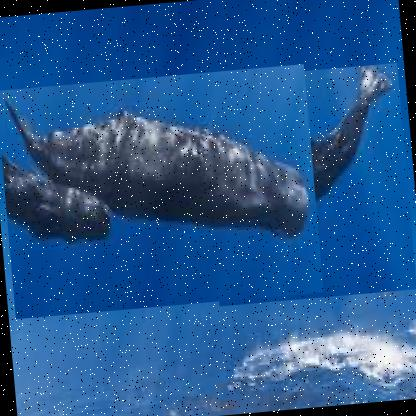blue_whale: (0, 63, 326, 320), (200, 62, 415, 307)
